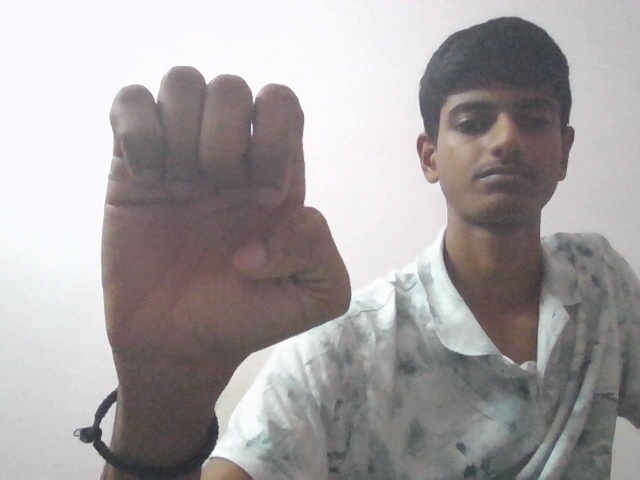yes: (84, 59, 355, 465)
